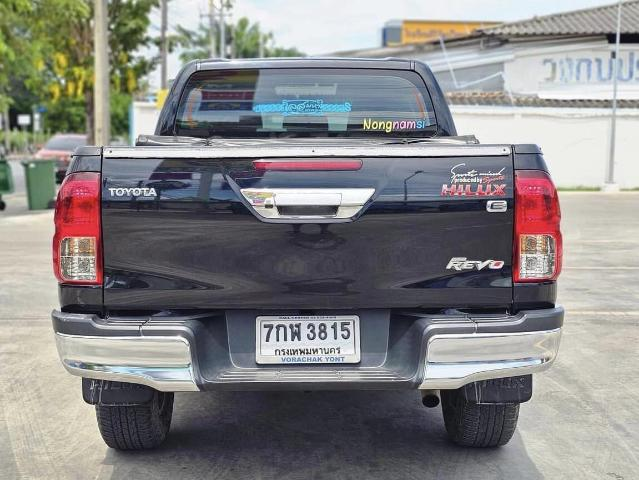pickup-truck: (44, 44, 572, 460)
